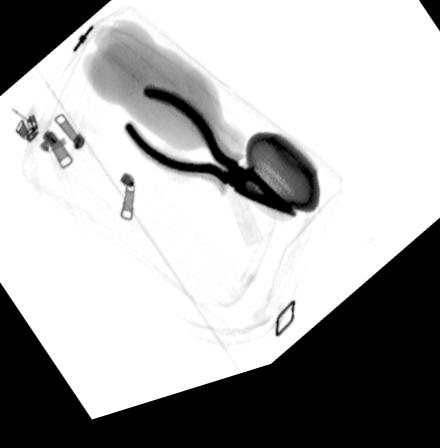Pliers: (122, 90, 297, 235)
